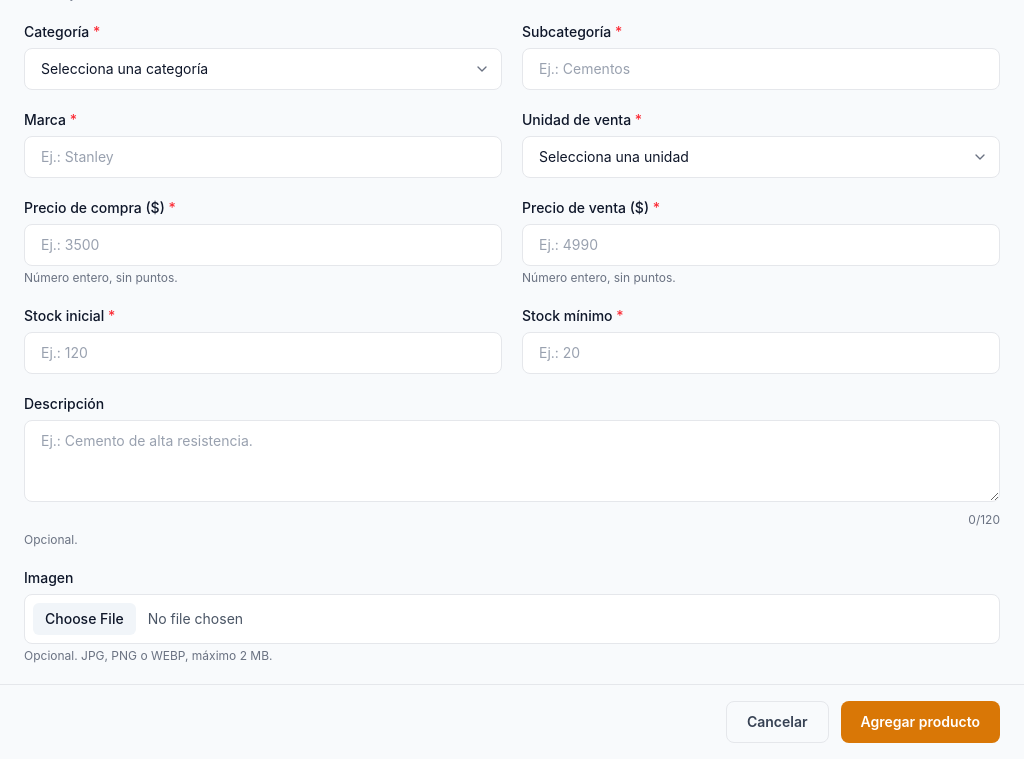
Test: formulario de producto › muestra errores, enfoca el primer campo inválido y no envía datos incompletos
The width and height of the screenshot is (1024, 759).
(page scrolled)
What coordinates should you click on to do the following:
click the button "Agregar producto"
I would click on:
 (920, 722)
Its box is [840,701,1000,743].
(page scrolled)
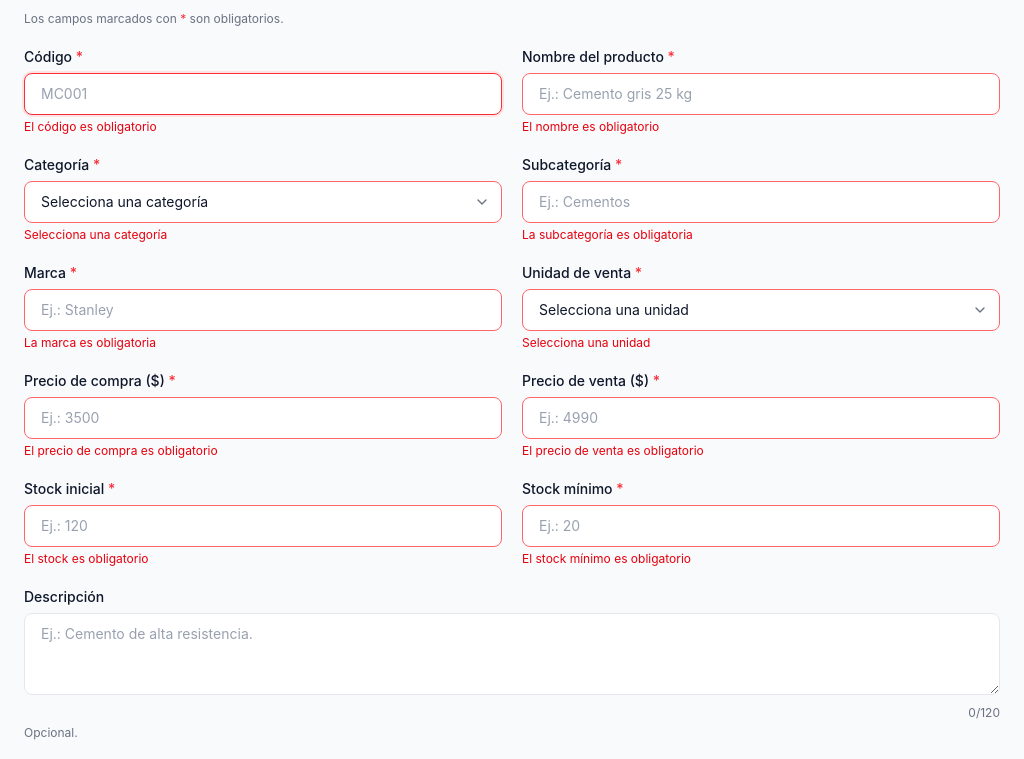
Now the text "El código es obligatorio" is shown, box [24,119,157,134]
